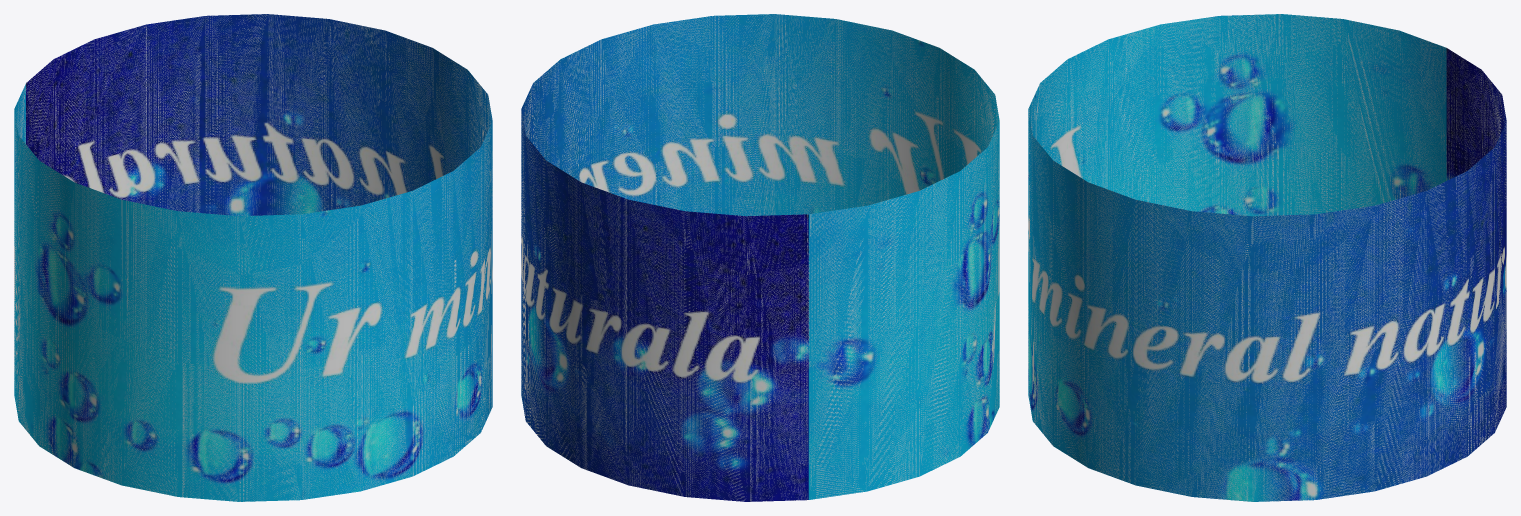
File: body_8.obj
3 renders of one model, left to right at view 1: azimuth 30°, elevation 25°; view 2: azimuth 150°, elevation 25°; view 3: azimuth 270°, elevation 25°, orthographic.
Parts seen in each view (by area): view 1: ETIQUETA1/ETIQUETA/mesh652/mesh652-geometry#mesh652-geometry; view 2: ETIQUETA1/ETIQUETA/mesh652/mesh652-geometry#mesh652-geometry; view 3: ETIQUETA1/ETIQUETA/mesh652/mesh652-geometry#mesh652-geometry.
Boxes of the visible parts, <box> form: ETIQUETA1/ETIQUETA/mesh652/mesh652-geometry#mesh652-geometry: <box>14,14,492,501</box>; ETIQUETA1/ETIQUETA/mesh652/mesh652-geometry#mesh652-geometry: <box>521,14,999,501</box>; ETIQUETA1/ETIQUETA/mesh652/mesh652-geometry#mesh652-geometry: <box>1028,14,1506,501</box>.
Bounding box in the file's own units: 0.4421 × 0.2914 × 0.4421.
2 materials, 1 textured.
